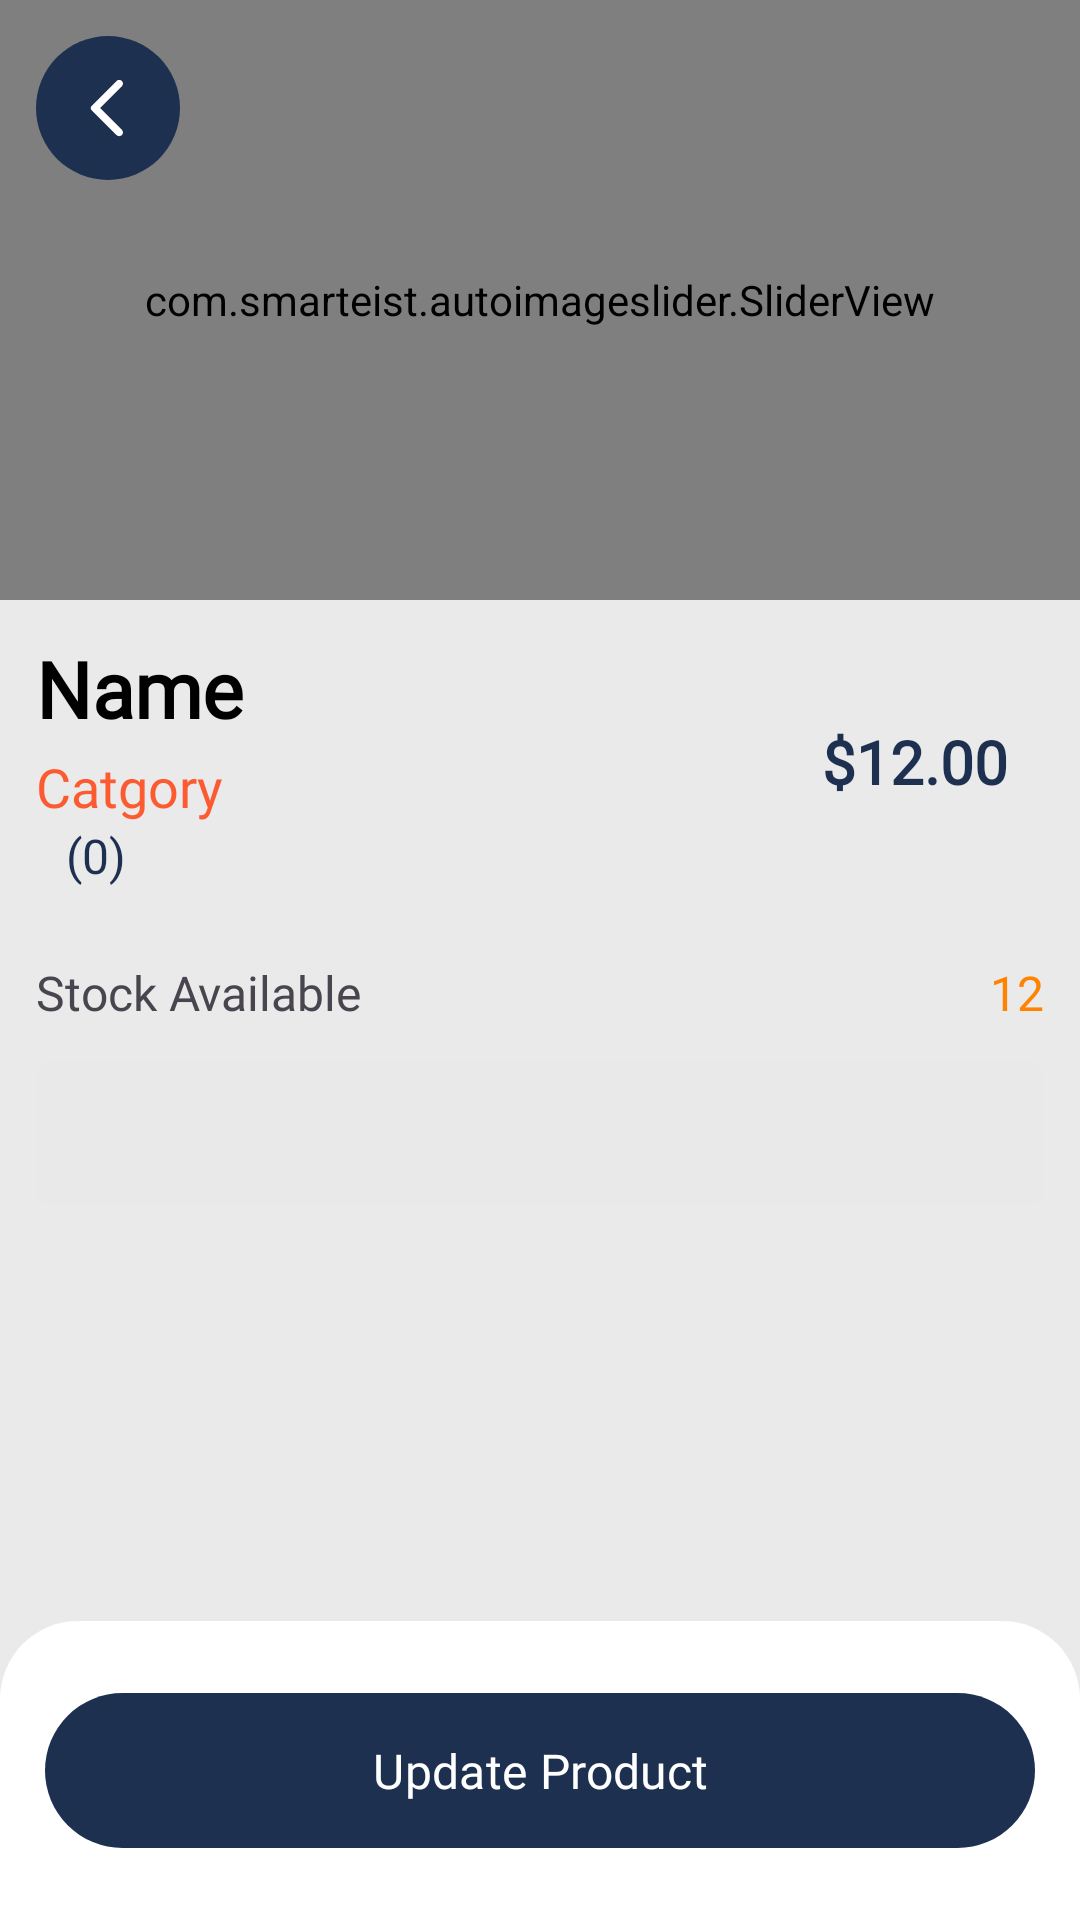

Named icons in this screenshot (1080×1920) and their bounding boxes, [x1, y1, x2, y2]:
arrow back: [36, 36, 180, 180]
